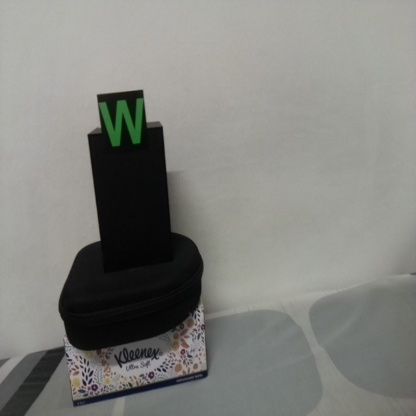id_12: (97, 93, 149, 156)
